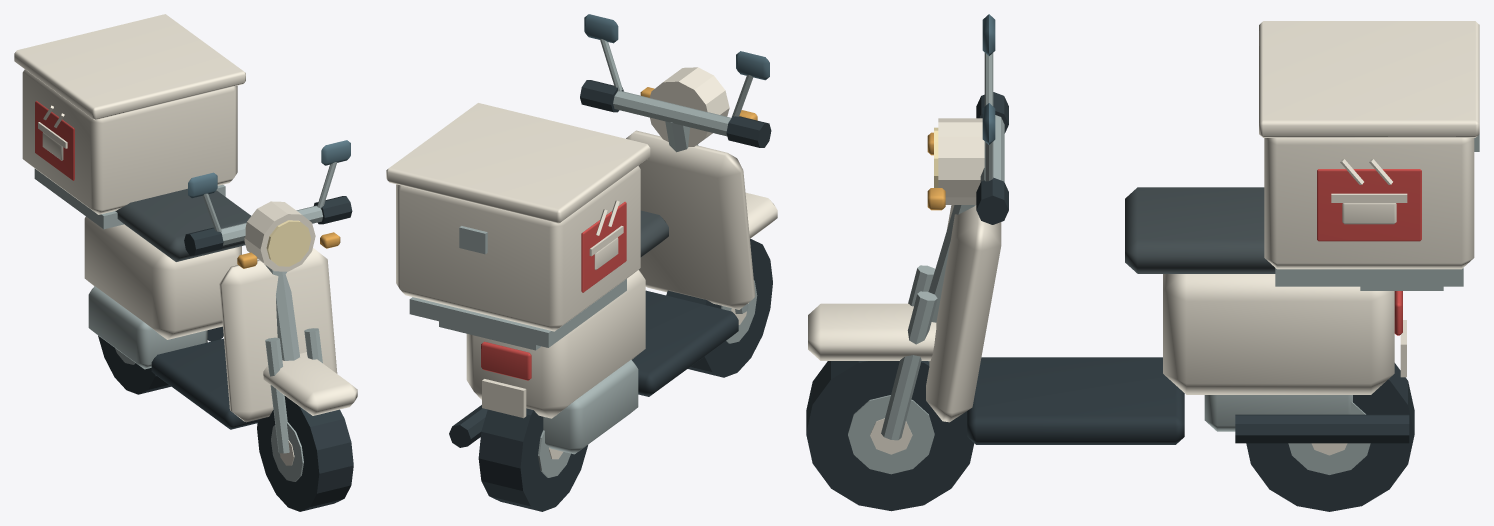
File: komachi-delivery-scooter.glb
The picture shows the model from 3 angles, left to right: view 1: azimuth 30°, elevation 25°; view 2: azimuth 150°, elevation 25°; view 3: azimuth 270°, elevation 25°; orthographic projection. The views are drawn at different scales.
Visible parts, largest first — view 1: Top_Box, Top_Box_Lid, Rear_Body.001, Leg_Shield.001, Wheel_Front_Tyre.001, Seat.001, Step_Through_Floor.001, Engine_Case.001, Front_Mudguard.001, Headlamp_Housing.001, Headlamp.001, Food_Box_Badge (+11 smaller); view 2: Top_Box, Top_Box_Lid, Leg_Shield.001, Rear_Body.001, Wheel_Rear_Tyre.001, Step_Through_Floor.001, Engine_Case.001, Cargo_Rack, Wheel_Front_Tyre.001, Headlamp_Housing.001, Handlebar.001, Food_Box_Badge (+14 smaller); view 3: Rear_Body.001, Top_Box_Lid, Top_Box, Step_Through_Floor.001, Wheel_Front_Tyre.001, Seat.001, Leg_Shield.001, Wheel_Rear_Tyre.001, Front_Mudguard.001, Food_Box_Badge.001, Exhaust.001, Headlamp_Housing.001 (+11 smaller).
Boxes of the visible parts, x1=… form: Top_Box: x1=22, y1=69, x2=237, y2=214; Top_Box_Lid: x1=14, y1=14, x2=245, y2=120; Rear_Body.001: x1=84, y1=216, x2=241, y2=339; Leg_Shield.001: x1=219, y1=248, x2=337, y2=422; Wheel_Front_Tyre.001: x1=257, y1=396, x2=353, y2=511; Seat.001: x1=115, y1=188, x2=250, y2=261; Step_Through_Floor.001: x1=151, y1=338, x2=260, y2=429; Engine_Case.001: x1=88, y1=286, x2=207, y2=369; Front_Mudguard.001: x1=263, y1=352, x2=357, y2=415; Headlamp_Housing.001: x1=244, y1=201, x2=315, y2=271; Headlamp.001: x1=266, y1=220, x2=311, y2=266; Food_Box_Badge: x1=35, y1=101, x2=74, y2=180; Top_Box: x1=396, y1=165, x2=640, y2=331; Top_Box_Lid: x1=386, y1=103, x2=650, y2=223; Leg_Shield.001: x1=626, y1=130, x2=755, y2=309; Rear_Body.001: x1=466, y1=269, x2=645, y2=418; Wheel_Rear_Tyre.001: x1=478, y1=408, x2=587, y2=511; Step_Through_Floor.001: x1=632, y1=290, x2=738, y2=396; Engine_Case.001: x1=543, y1=359, x2=638, y2=454; Cargo_Rack: x1=409, y1=279, x2=626, y2=347; Wheel_Front_Tyre.001: x1=666, y1=238, x2=772, y2=377; Headlamp_Housing.001: x1=649, y1=67, x2=729, y2=146; Handlebar.001: x1=613, y1=91, x2=731, y2=136; Food_Box_Badge: x1=581, y1=201, x2=626, y2=292; Rear_Body.001: x1=1163, y1=274, x2=1394, y2=394; Top_Box_Lid: x1=1259, y1=21, x2=1479, y2=137; Top_Box: x1=1264, y1=138, x2=1474, y2=269; Step_Through_Floor.001: x1=967, y1=357, x2=1184, y2=444; Wheel_Front_Tyre.001: x1=806, y1=361, x2=974, y2=511; Seat.001: x1=1125, y1=187, x2=1275, y2=273; Leg_Shield.001: x1=926, y1=205, x2=1001, y2=422; Wheel_Rear_Tyre.001: x1=1246, y1=363, x2=1414, y2=511; Front_Mudguard.001: x1=808, y1=303, x2=936, y2=360; Food_Box_Badge.001: x1=1317, y1=169, x2=1421, y2=241; Exhaust.001: x1=1235, y1=414, x2=1409, y2=443; Headlamp_Housing.001: x1=938, y1=118, x2=984, y2=204.
Bounding box in the file's own units: 0.142 × 0.2645 × 0.372.
